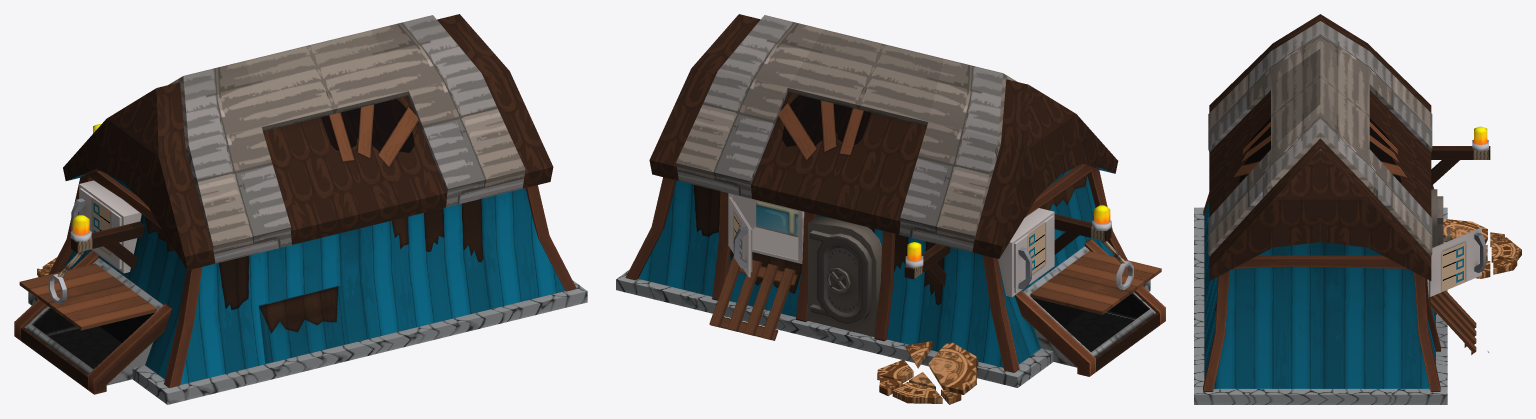
File: HD_Build_House_Playerhouse_4x3_Mesh001.FBX
3 renders of one model, left to right at view 1: azimuth 30°, elevation 25°; view 2: azimuth 150°, elevation 25°; view 3: azimuth 270°, elevation 25°, orthographic. The views are drawn at different scales.
Parts seen in each view (by area): view 1: main_hus005; view 2: main_hus005; view 3: main_hus005.
Part boxes in pixels (x1,y1,x2,y2): main_hus005: [14, 14, 587, 404]; main_hus005: [616, 14, 1165, 404]; main_hus005: [1194, 14, 1521, 404].
Bounding box in the file's own units: 383 × 204 × 254.
1 material, 1 textured.
